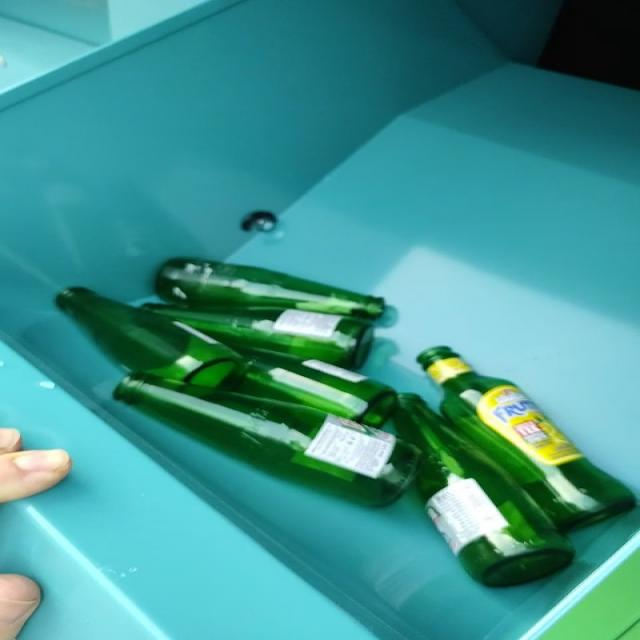glass: (55, 259, 637, 587)
